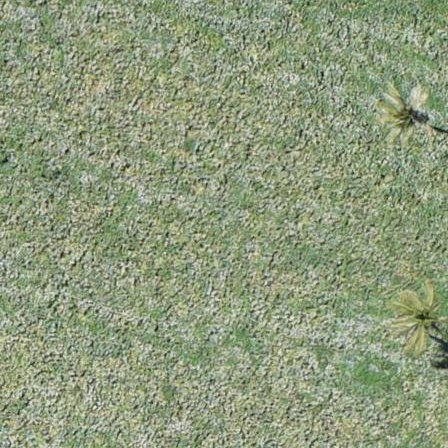palm_tree: (369, 81, 429, 146), (387, 286, 443, 345)
